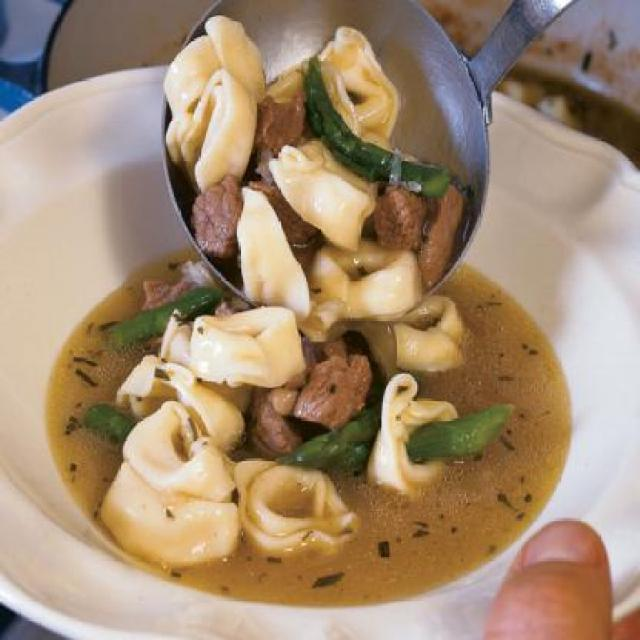Tortellini in broth: (171, 19, 480, 333)
